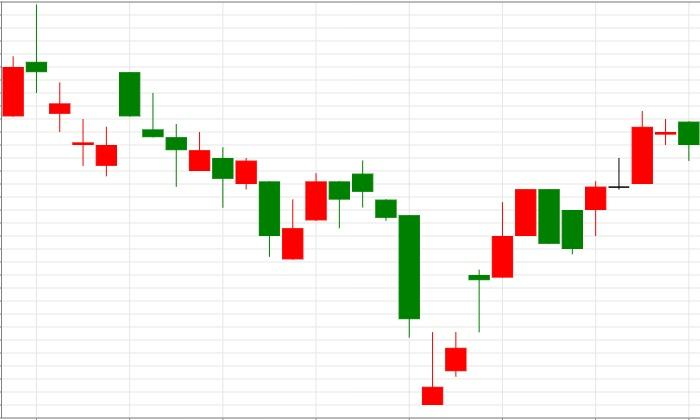inverse_hammer_rise: (119, 71, 304, 260), (329, 159, 444, 406)
